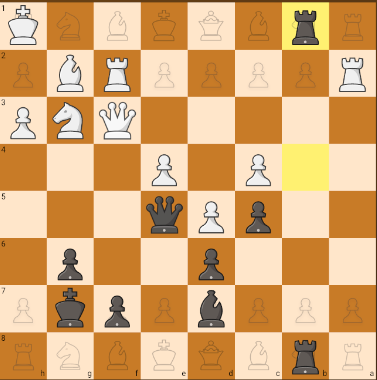bk: (47, 286, 92, 329)
bp: (49, 241, 95, 284), (4, 4, 43, 46), (98, 292, 138, 332), (243, 198, 275, 236), (198, 244, 227, 282)
bq: (144, 196, 185, 236), (194, 289, 231, 330)
br: (285, 7, 325, 48), (288, 337, 325, 376)
wb: (53, 53, 88, 94)
wn: (48, 98, 86, 140)
wp: (3, 102, 43, 141), (238, 153, 279, 186), (148, 151, 180, 189), (197, 198, 226, 235)
wq: (97, 102, 140, 140)
wr: (98, 52, 138, 95), (335, 55, 370, 94)
